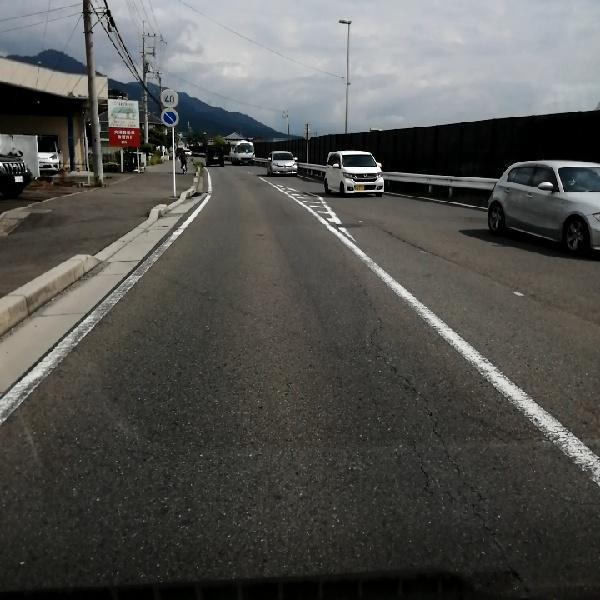D00: (354, 269, 482, 509), (383, 229, 469, 268)
